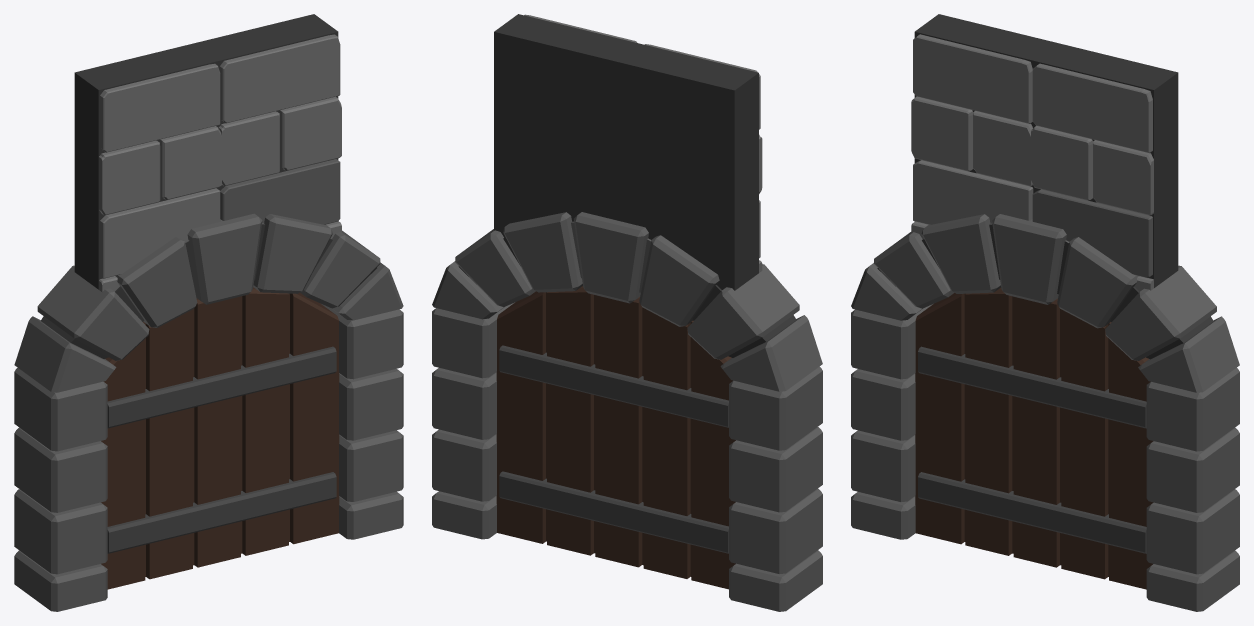
File: LevelDoorPiece.glb
3 views of the same model, side by side, from view 1: azimuth 30°, elevation 25°; view 2: azimuth 150°, elevation 25°; view 3: azimuth 330°, elevation 25° (orthographic).
Visible parts, largest first — view 1: LevelDoorFrame, LevelEntranceDoor; view 2: LevelDoorFrame, LevelEntranceDoor; view 3: LevelDoorFrame, LevelEntranceDoor.
Part boxes in pixels (x1=…): LevelDoorFrame: x1=14, y1=14, x2=403, y2=611; LevelEntranceDoor: x1=101, y1=287, x2=339, y2=589; LevelDoorFrame: x1=432, y1=14, x2=822, y2=611; LevelEntranceDoor: x1=496, y1=286, x2=735, y2=589; LevelDoorFrame: x1=851, y1=14, x2=1239, y2=611; LevelEntranceDoor: x1=915, y1=287, x2=1153, y2=589.
Bounding box in the file's own units: 2.94 × 4 × 0.6.
